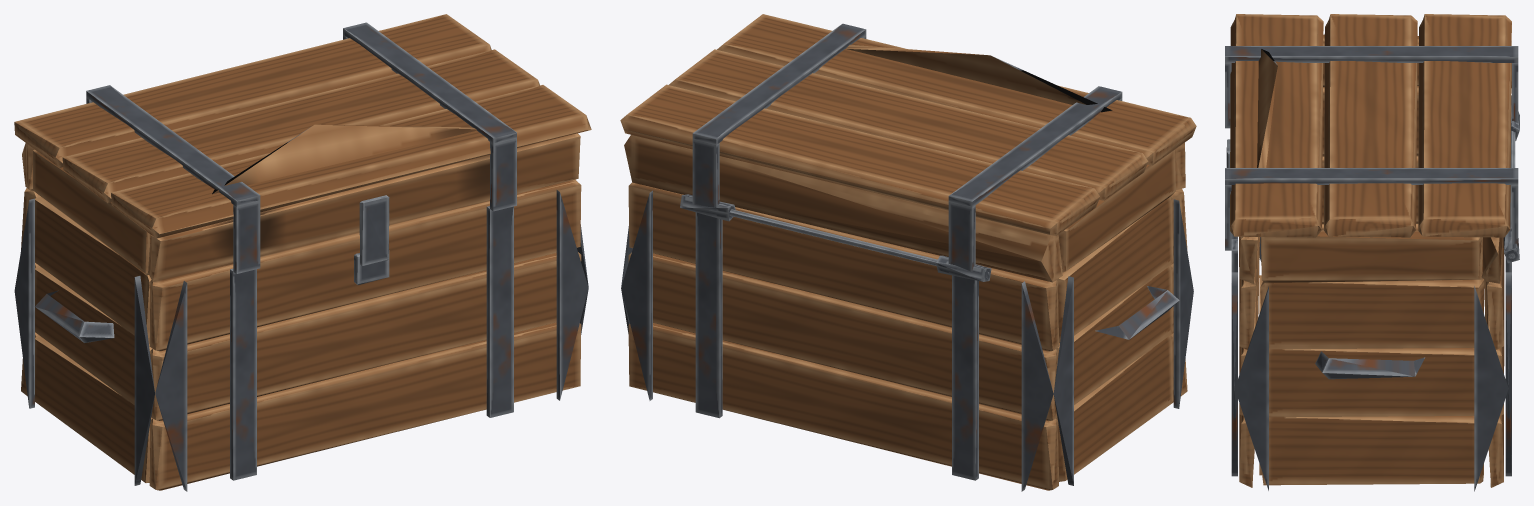
File: storage_chest_unreal_LOD1.glb
The picture shows the model from 3 angles, left to right: view 1: azimuth 30°, elevation 25°; view 2: azimuth 150°, elevation 25°; view 3: azimuth 270°, elevation 25°; orthographic projection. The views are drawn at different scales.
Parts seen in each view (by area): view 1: storage_chest_unreal_static, lid; view 2: storage_chest_unreal_static, lid; view 3: lid, storage_chest_unreal_static.
Boxes of the visible parts, left/top/right/bottom form: storage_chest_unreal_static: left=14, top=179, right=588, bottom=491; lid: left=14, top=14, right=591, bottom=282; storage_chest_unreal_static: left=621, top=182, right=1193, bottom=491; lid: left=620, top=14, right=1196, bottom=282; lid: left=1225, top=14, right=1519, bottom=283; storage_chest_unreal_static: left=1231, top=86, right=1511, bottom=491.
Size of what is drawn, in the model's own units: 1.04 by 0.629 by 0.5509.
Materials: 2 (2 with a texture image).
